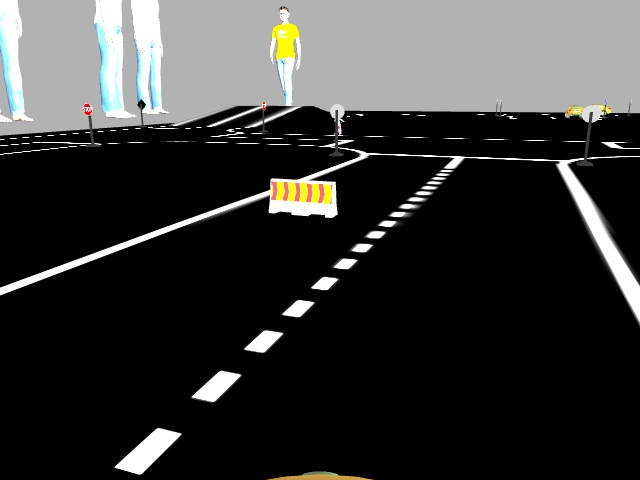ClosedRoadStand: (271, 180, 337, 216)
